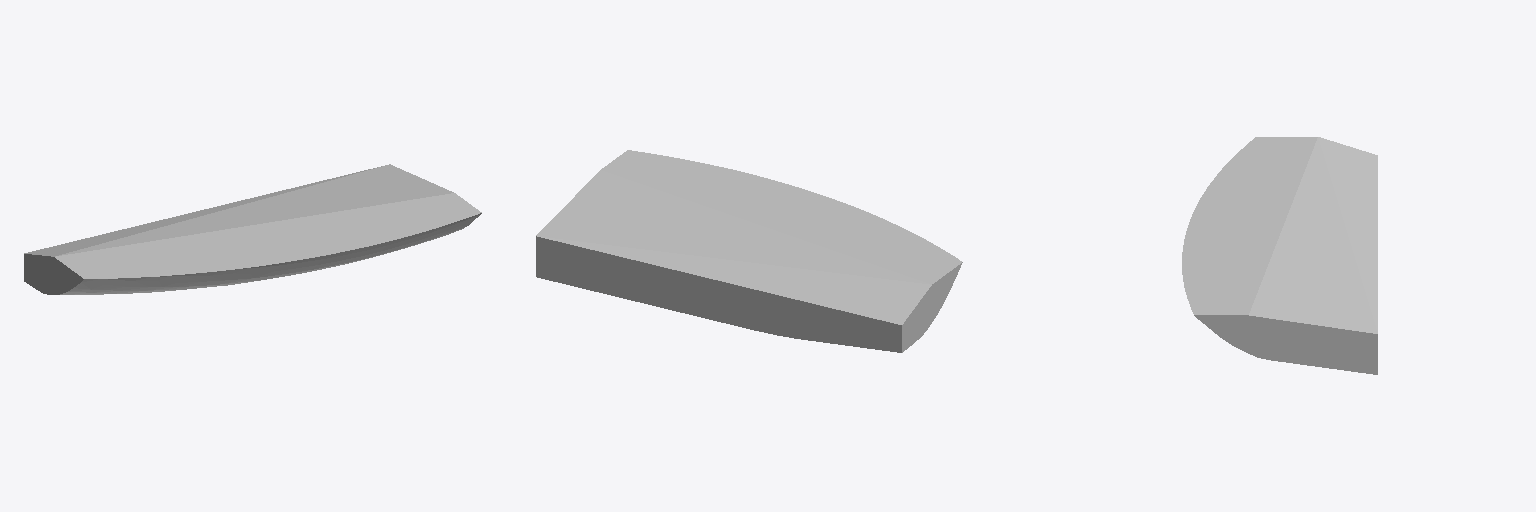
Rendered from pan_collision_4.obj.
The picture shows the model from 3 angles: view 1: azimuth 30°, elevation 25°; view 2: azimuth 150°, elevation 25°; view 3: azimuth 270°, elevation 25°; orthographic projection.
Bounding box in the file's own units: 0.0733 × 0.0114 × 0.034.